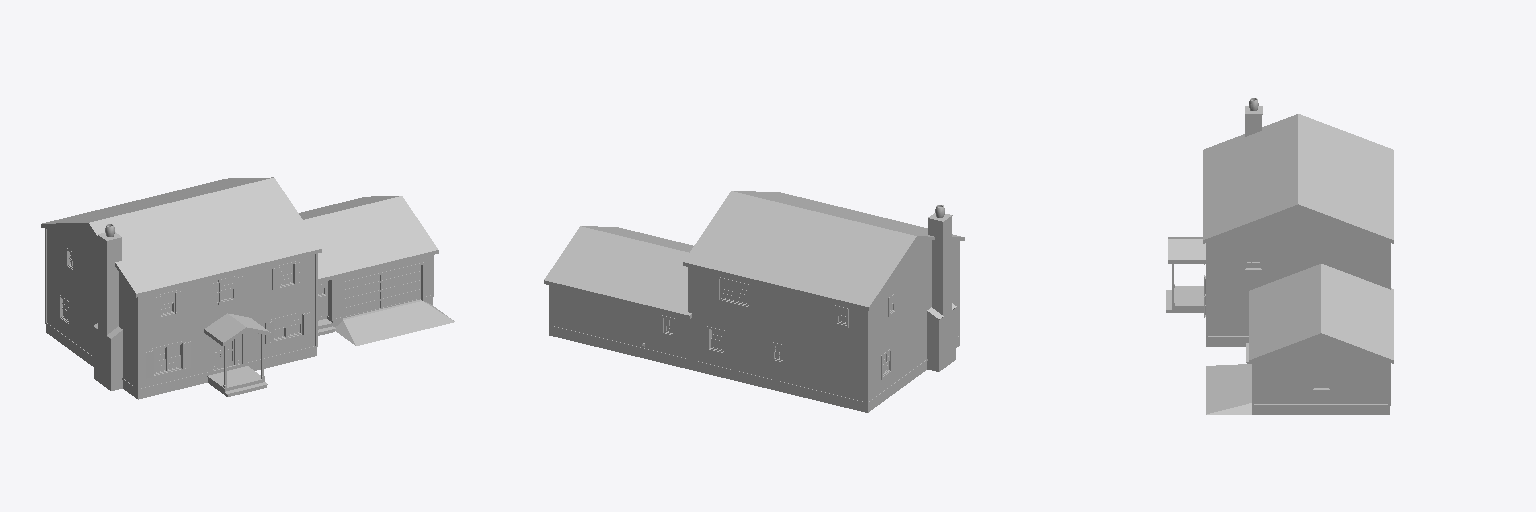
The model's file is fachada-og.obj.
3 views of the same model, side by side, from view 1: azimuth 30°, elevation 25°; view 2: azimuth 150°, elevation 25°; view 3: azimuth 270°, elevation 25° (orthographic).
Visible parts, largest first — view 1: 3d-model; view 2: 3d-model; view 3: 3d-model.
Boxes of the visible parts, box(x1,y1,x2,y2) form: 3d-model: box(41, 177, 454, 399); 3d-model: box(544, 191, 964, 412); 3d-model: box(1166, 98, 1393, 414).
Size of the model in its own units: 805 by 364 by 477.